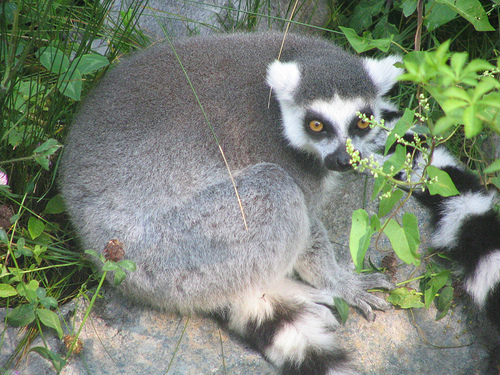cat: (56, 27, 494, 374)
